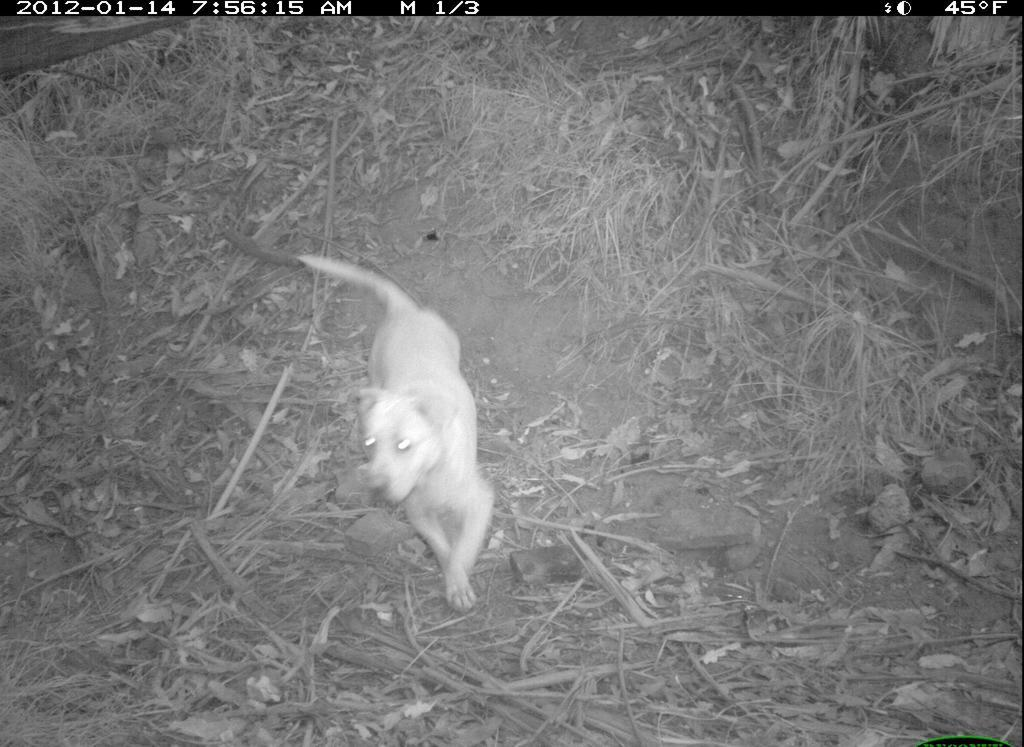dog: (283, 246, 515, 623)
